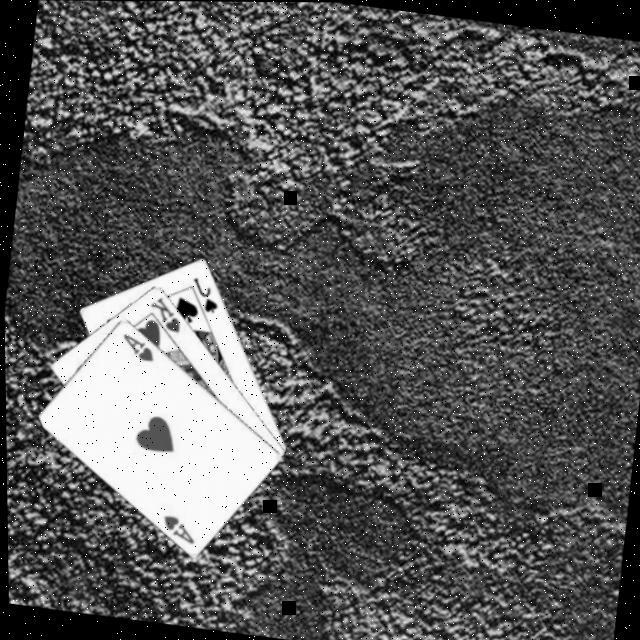AH: (116, 330, 159, 367), (156, 512, 198, 548)
JS: (186, 275, 223, 318)
KH: (144, 294, 186, 337)
